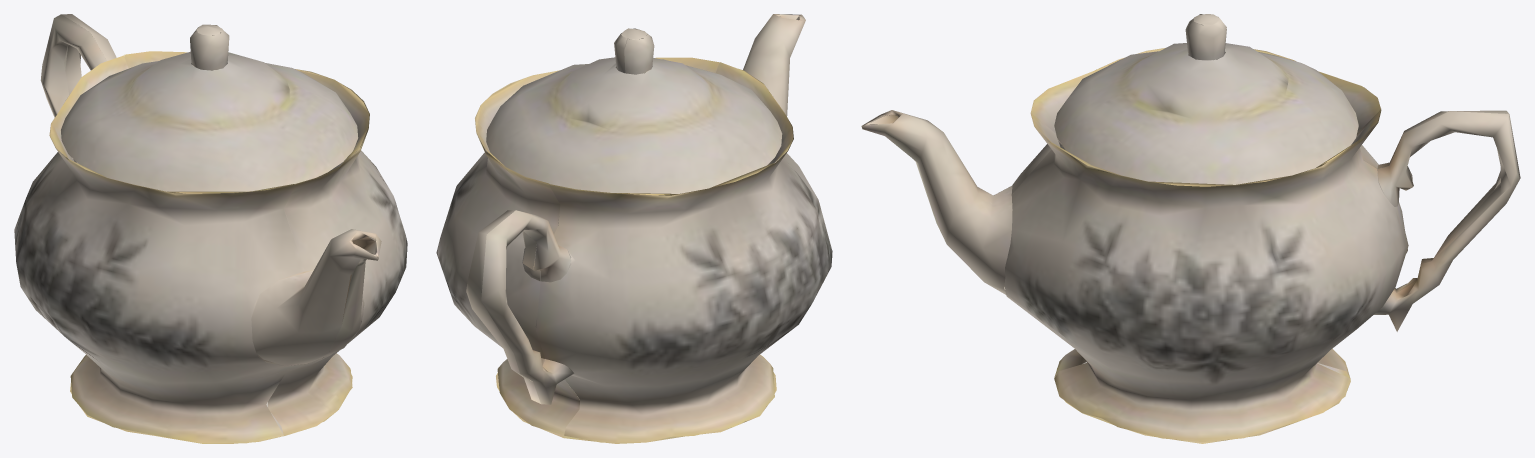
Rendered from tea_set.glb.
3 views of the same model, side by side, from view 1: azimuth 30°, elevation 25°; view 2: azimuth 150°, elevation 25°; view 3: azimuth 270°, elevation 25° (orthographic). The views are drawn at different scales.
Parts seen in each view (by area): view 1: tea_set_01_teapot_01; view 2: tea_set_01_teapot_01; view 3: tea_set_01_teapot_01.
Boxes of the visible parts, box(x1,y1,x2,y2) form: tea_set_01_teapot_01: box(14, 14, 407, 443); tea_set_01_teapot_01: box(436, 14, 832, 443); tea_set_01_teapot_01: box(861, 14, 1520, 443).
Bounding box in the file's own units: 0.1656 × 0.165 × 0.269.
Materials: 1 (1 with a texture image).
